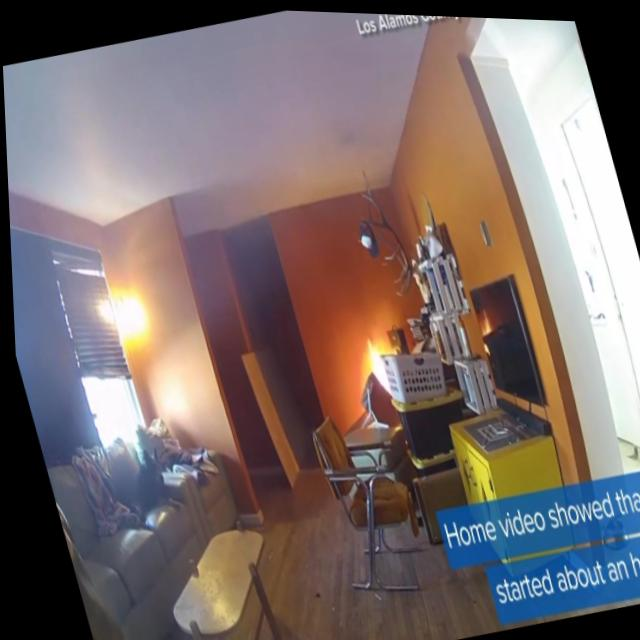fire: (357, 325, 406, 395)
